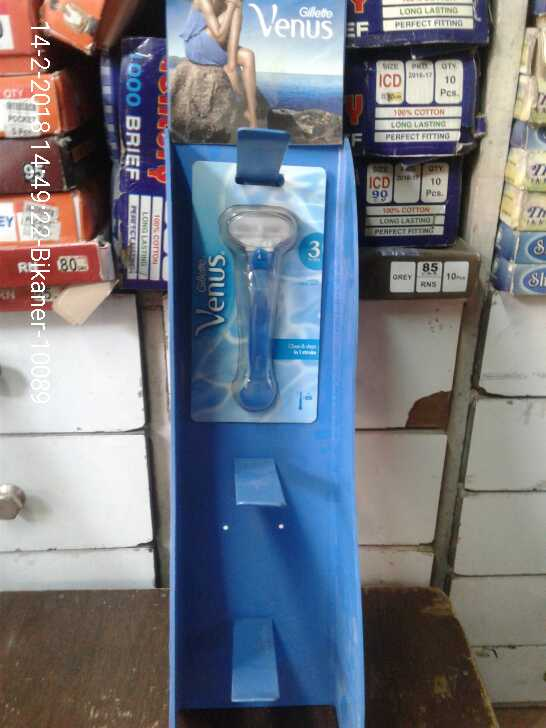venus: (192, 157, 321, 426)
